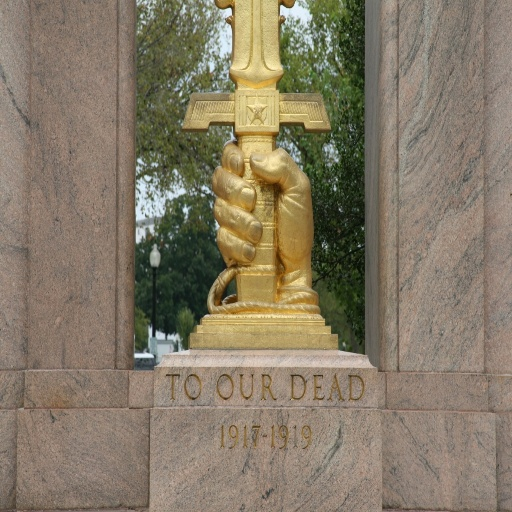hand: (208, 136, 322, 268)
